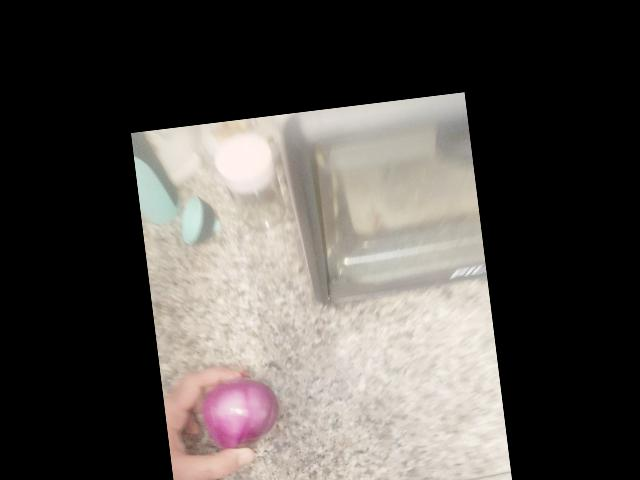onion: (409, 314, 497, 406)
